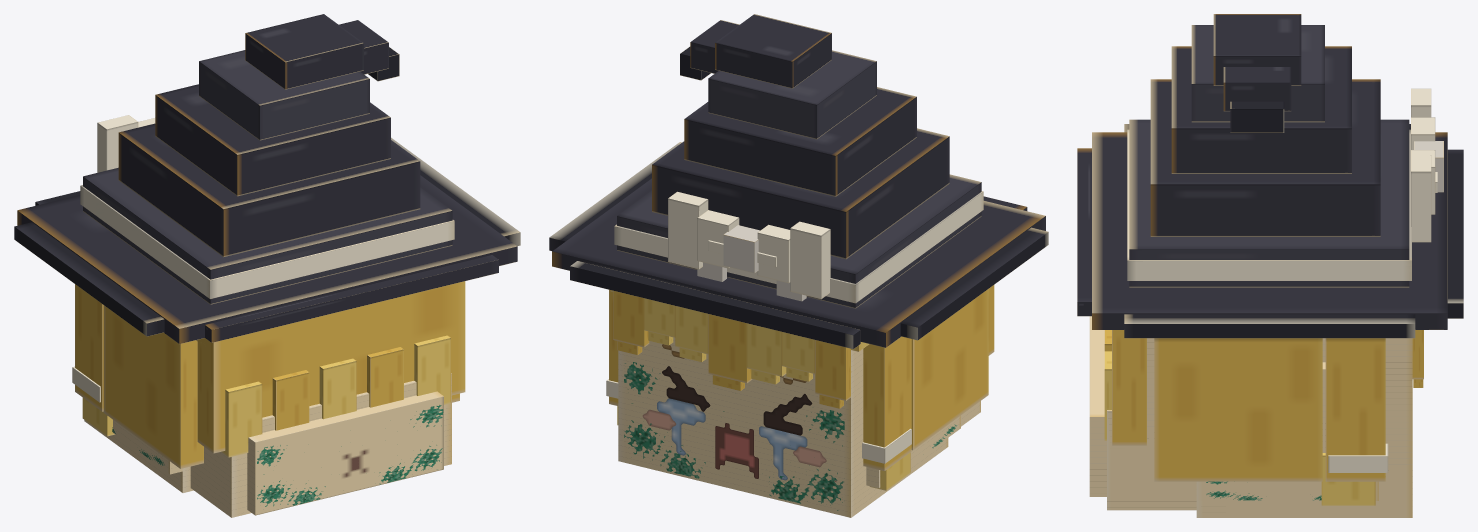
File: mold_marisa_2.obj
3 views of the same model, side by side, from view 1: azimuth 30°, elevation 25°; view 2: azimuth 150°, elevation 25°; view 3: azimuth 270°, elevation 25° (orthographic). The views are drawn at different scales.
Visible parts, largest first — view 1: mold_marisa_2; view 2: mold_marisa_2; view 3: mold_marisa_2.
Part boxes in pixels (x1=…): mold_marisa_2: x1=14, y1=14, x2=520, y2=517; mold_marisa_2: x1=549, y1=14, x2=1048, y2=517; mold_marisa_2: x1=1077, y1=14, x2=1463, y2=517.
Size of the model in its own units: 19 by 19.34 by 15.53.
1 material, 1 textured.
